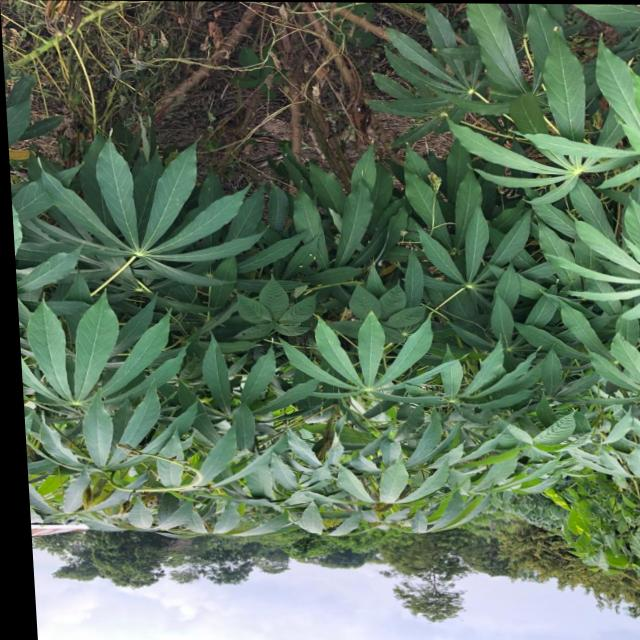Maleza: (561, 494, 640, 636), (235, 278, 316, 344)
Mosca: (433, 95, 456, 122), (395, 323, 418, 341), (289, 256, 308, 275), (307, 247, 318, 265)
